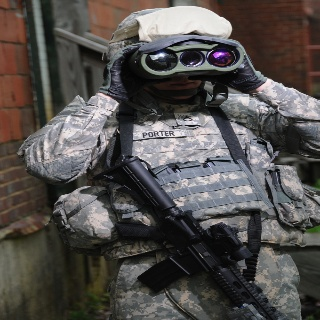rifle: (113, 156, 288, 320)
